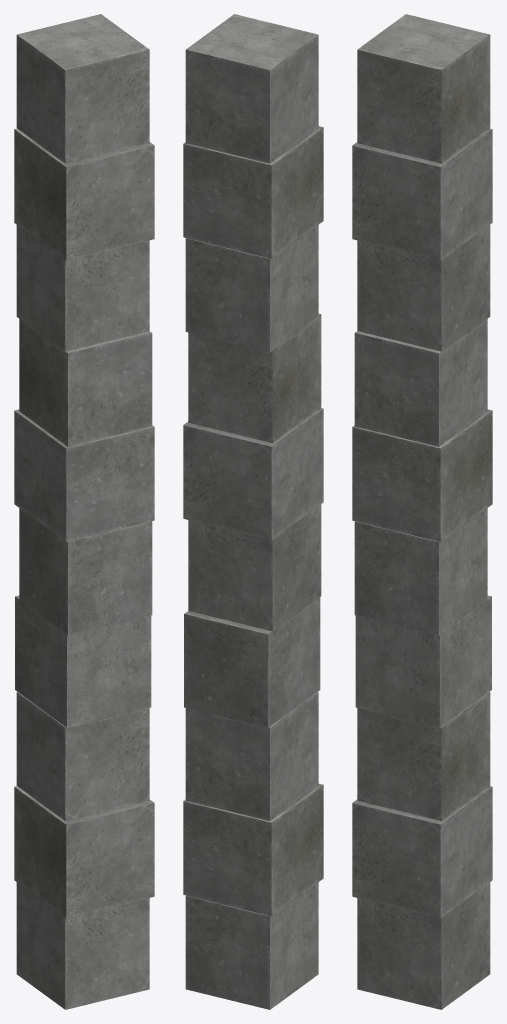
File: SM_pillar_large_03.fbx
3 views of the same model, side by side, from view 1: azimuth 30°, elevation 25°; view 2: azimuth 150°, elevation 25°; view 3: azimuth 330°, elevation 25° (orthographic).
Parts seen in each view (by area): view 1: DarkFantasyObject31; view 2: DarkFantasyObject31; view 3: DarkFantasyObject31.
Part boxes in pixels (x1,y1,x2,y2): DarkFantasyObject31: (14, 14, 154, 1009); DarkFantasyObject31: (183, 14, 323, 1009); DarkFantasyObject31: (352, 14, 492, 1009).
Bounding box in the file's own units: 38.86 × 394 × 40.45.
